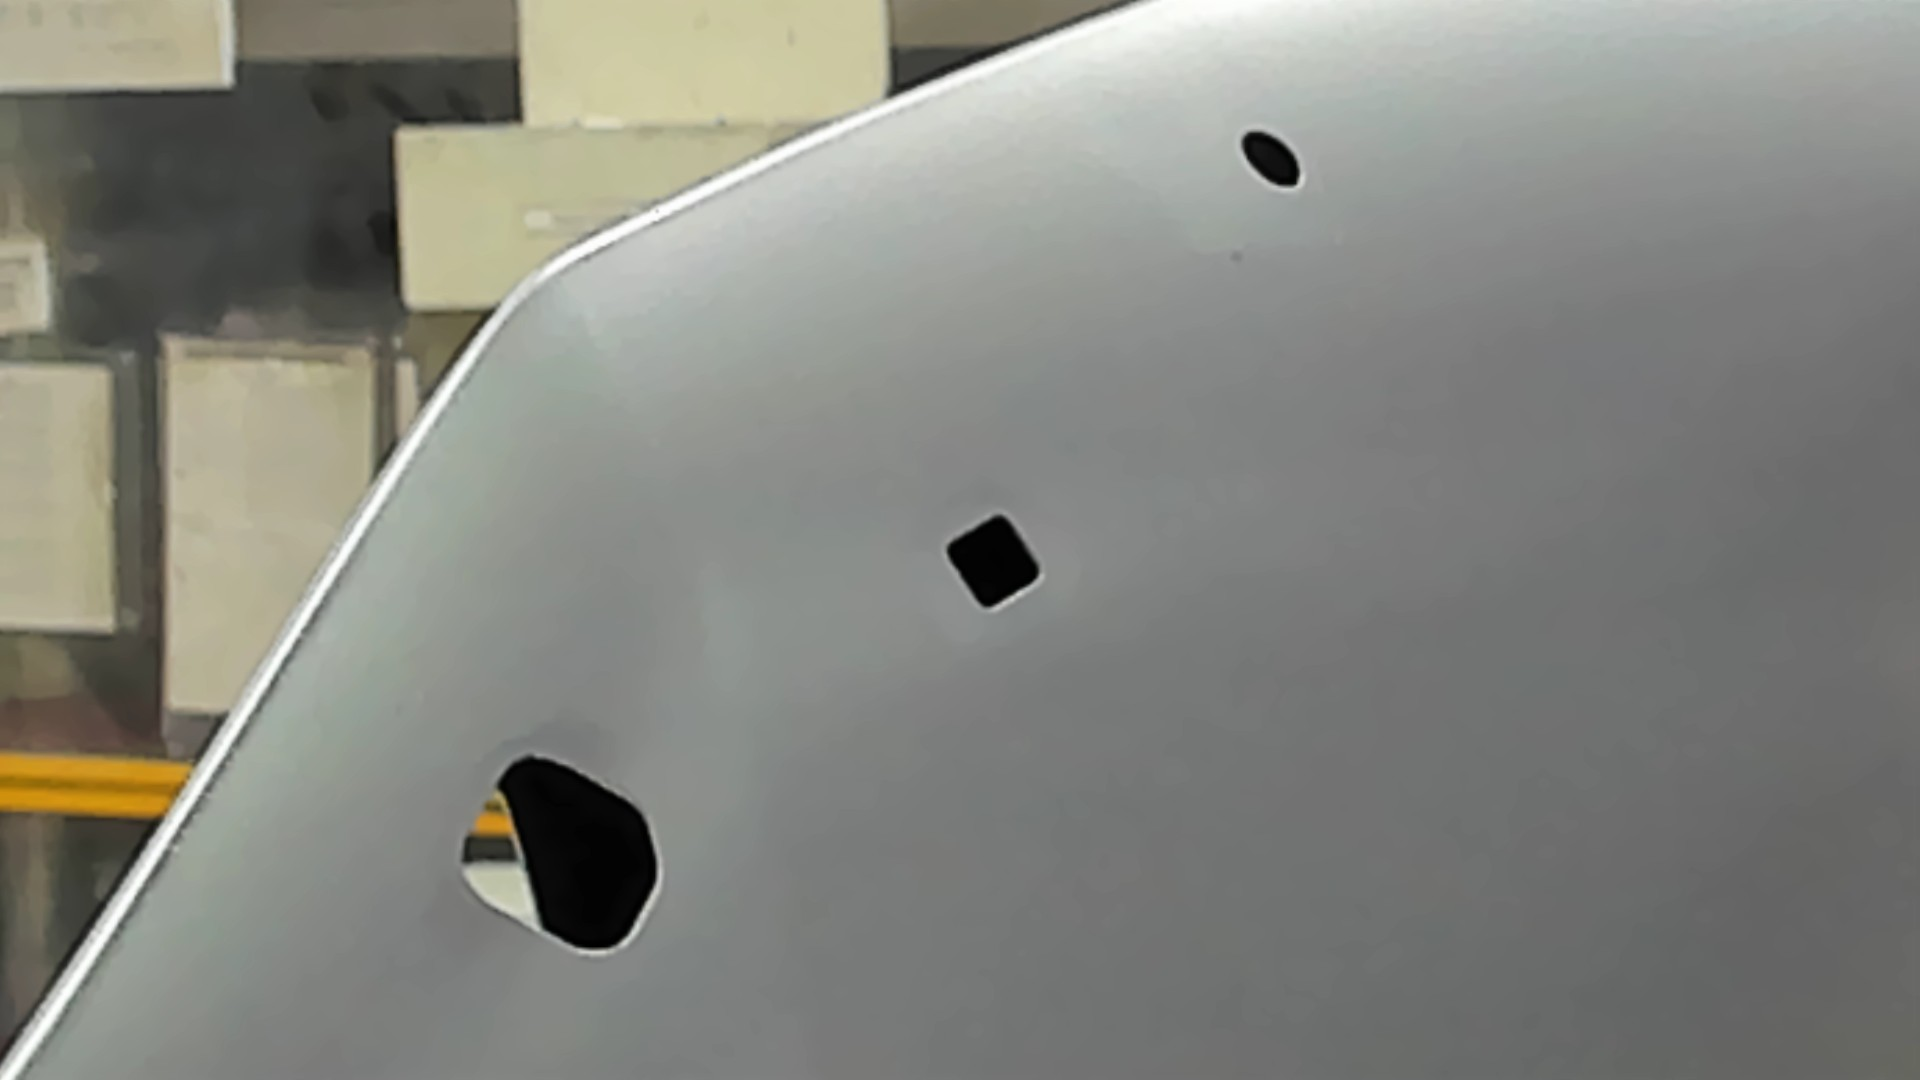chico: (1234, 127, 1307, 189)
grande: (452, 753, 666, 961)
mediano: (939, 512, 1047, 620)
